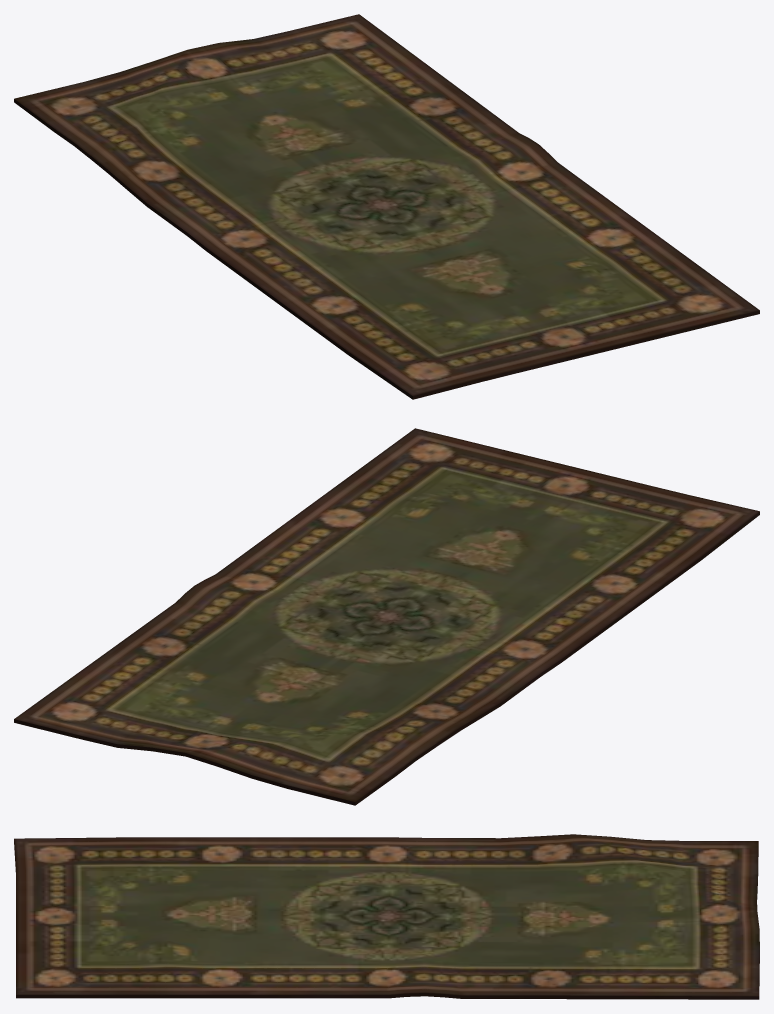
The model's file is SM_Carpet01_1088ea.glb.
The picture shows the model from 3 angles, top to bottom: view 1: azimuth 30°, elevation 25°; view 2: azimuth 150°, elevation 25°; view 3: azimuth 270°, elevation 25°; orthographic projection. The views are drawn at different scales.
Size of the model in its own units: 1.01 by 0.0305 by 2.
1 material, 1 textured.
